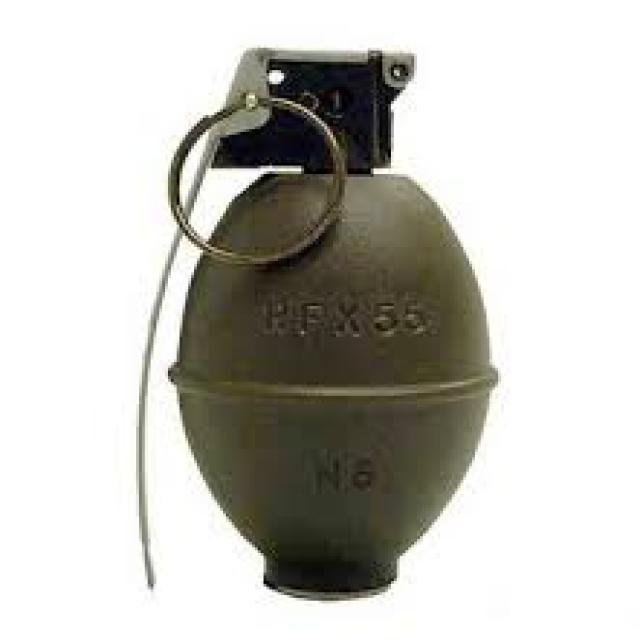grenade: (124, 29, 505, 609)
